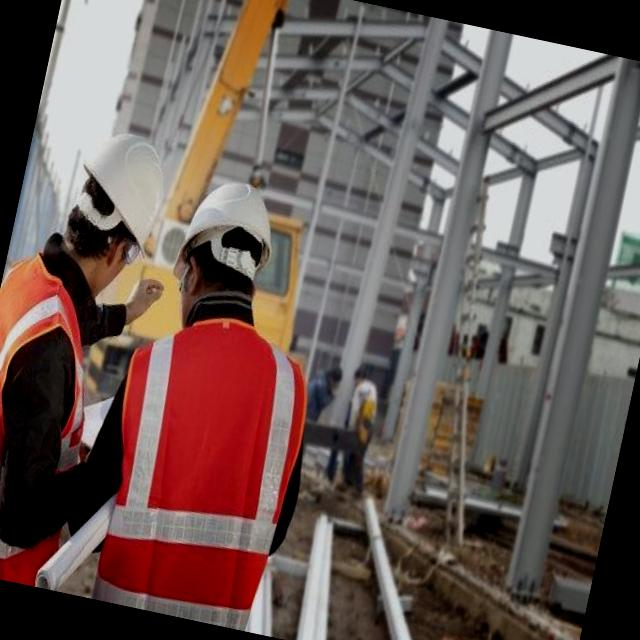helmet: (167, 167, 284, 299), (60, 118, 173, 254)
vest: (78, 304, 322, 634), (0, 253, 123, 591)
